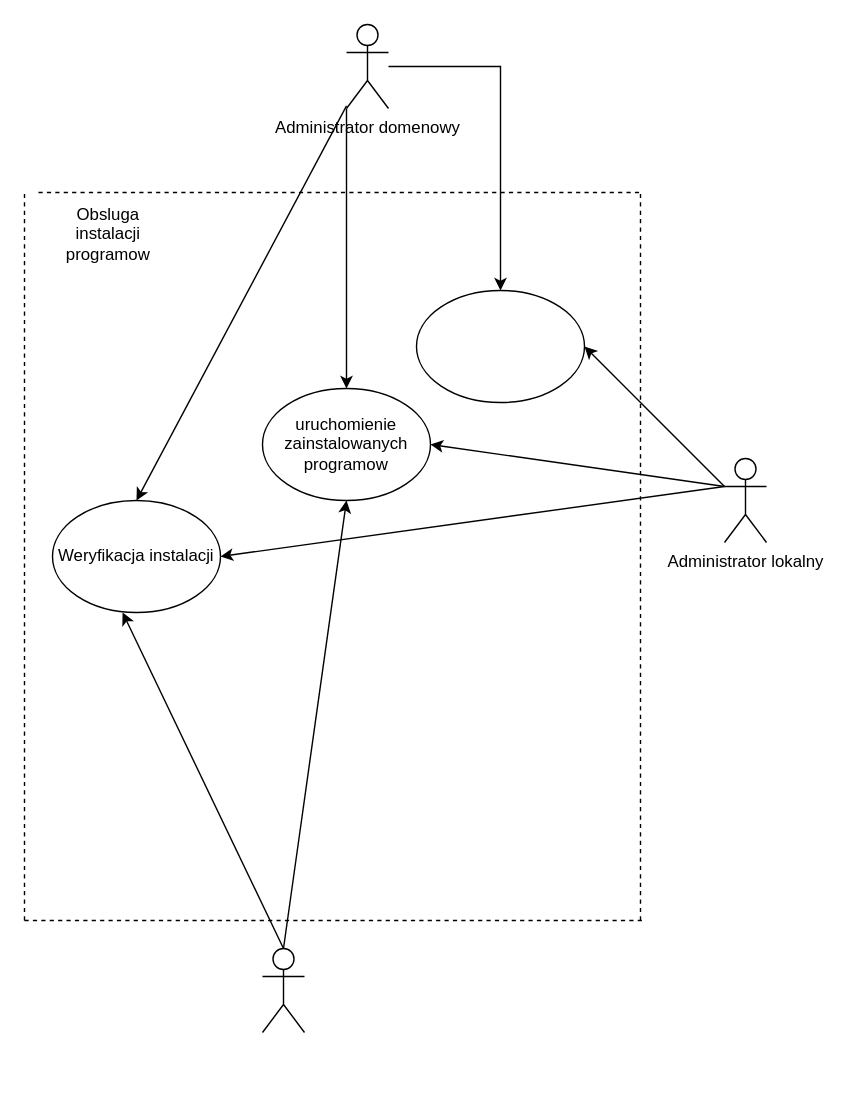
Some shapes in this 847 by 1107 pixel diagram are drawn without their labels. Each missing label, with the centre of its shape:
"uruchomienie zautomatyzowanej instalacji" goes at (499,345).
"Uzytkownik" goes at (282,989).
